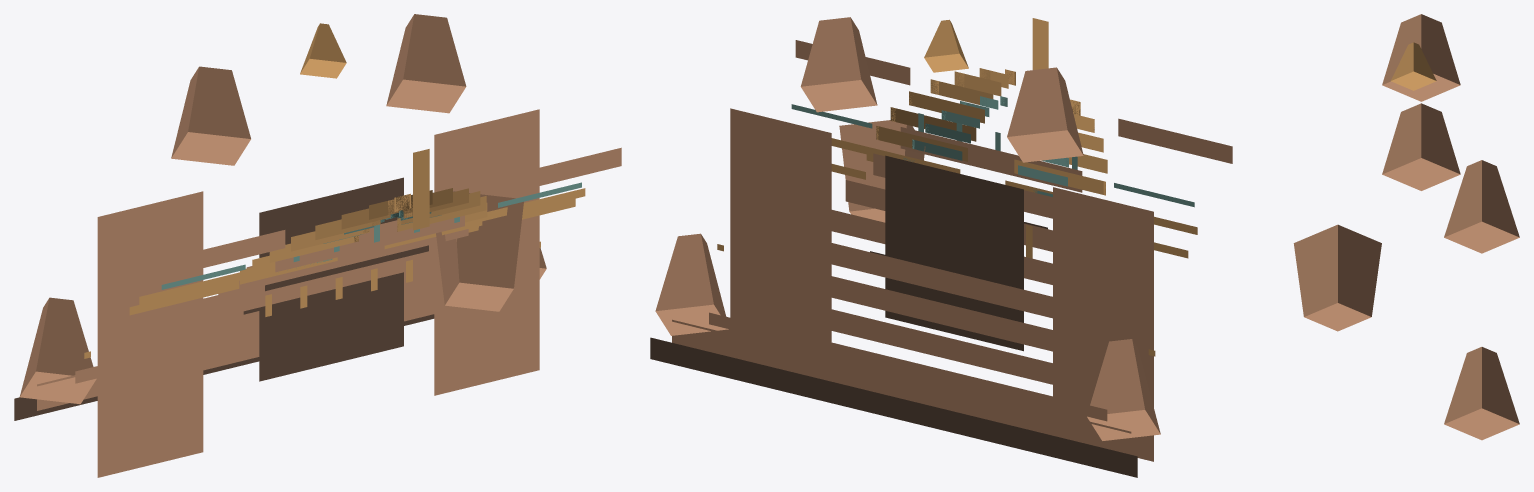
Rendered from nubia-sanctuary.gltf.
The picture shows the model from 3 angles, left to right: view 1: azimuth 30°, elevation 25°; view 2: azimuth 150°, elevation 25°; view 3: azimuth 270°, elevation 25°; orthographic projection. The views are drawn at different scales.
Visible parts, largest first — view 1: Sun-baked Sandstone geometry, Deep Shadow Stone geometry, Aged Brass geometry, Nile Patina geometry; view 2: Sun-baked Sandstone geometry, Deep Shadow Stone geometry, Aged Brass geometry, Nile Patina geometry; view 3: Sun-baked Sandstone geometry, Aged Brass geometry.
Boxes of the visible parts, x1=… form: Sun-baked Sandstone geometry: x1=19, y1=14, x2=621, y2=477; Deep Shadow Stone geometry: x1=14, y1=177, x2=434, y2=420; Aged Brass geometry: x1=84, y1=23, x2=585, y2=358; Nile Patina geometry: x1=161, y1=182, x2=581, y2=289; Sun-baked Sandstone geometry: x1=655, y1=17, x2=1232, y2=461; Deep Shadow Stone geometry: x1=650, y1=155, x2=1137, y2=477; Aged Brass geometry: x1=717, y1=18, x2=1197, y2=356; Nile Patina geometry: x1=791, y1=96, x2=1194, y2=207; Sun-baked Sandstone geometry: x1=1293, y1=14, x2=1519, y2=440; Aged Brass geometry: x1=1391, y1=42, x2=1436, y2=90.
Size of the model in its own units: 5.39 by 3.92 by 2.7.
